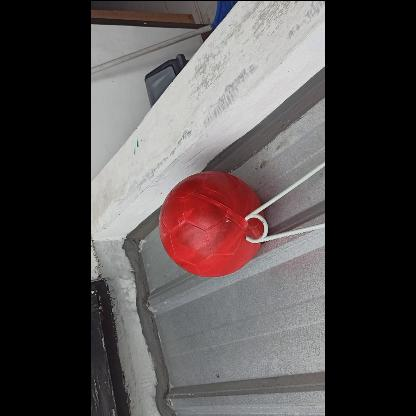red_ball: (159, 171, 265, 277)
